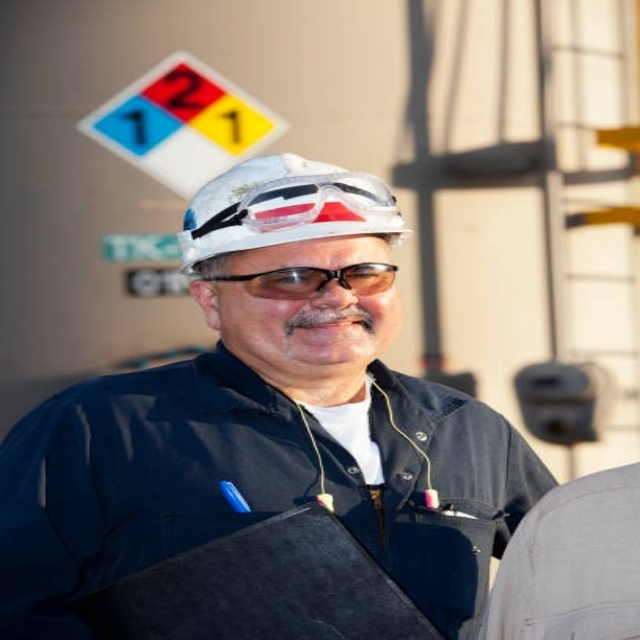Gafas: (198, 262, 400, 296)
Sin_mascara: (282, 310, 376, 348)
